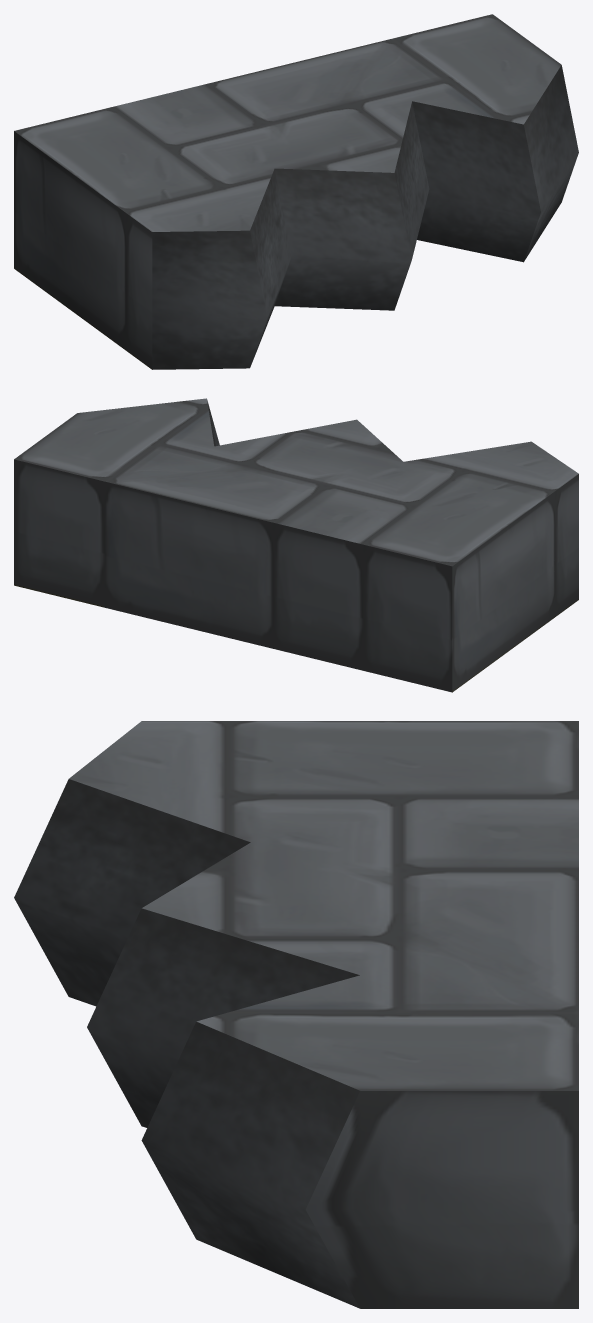
File: FloorBrokenSmall.001.fbx
3 views of the same model, one above another, from view 1: azimuth 30°, elevation 25°; view 2: azimuth 150°, elevation 25°; view 3: azimuth 270°, elevation 25° (orthographic). The views are drawn at different scales.
Visible parts, largest first — view 1: FloorBrokenSmall.001; view 2: FloorBrokenSmall.001; view 3: FloorBrokenSmall.001.
Part boxes in pixels (bbox=[...]): FloorBrokenSmall.001: bbox=[14, 14, 578, 369]; FloorBrokenSmall.001: bbox=[14, 398, 578, 692]; FloorBrokenSmall.001: bbox=[14, 721, 578, 1308].
Bounding box in the file's own units: 200 × 55 × 129.
